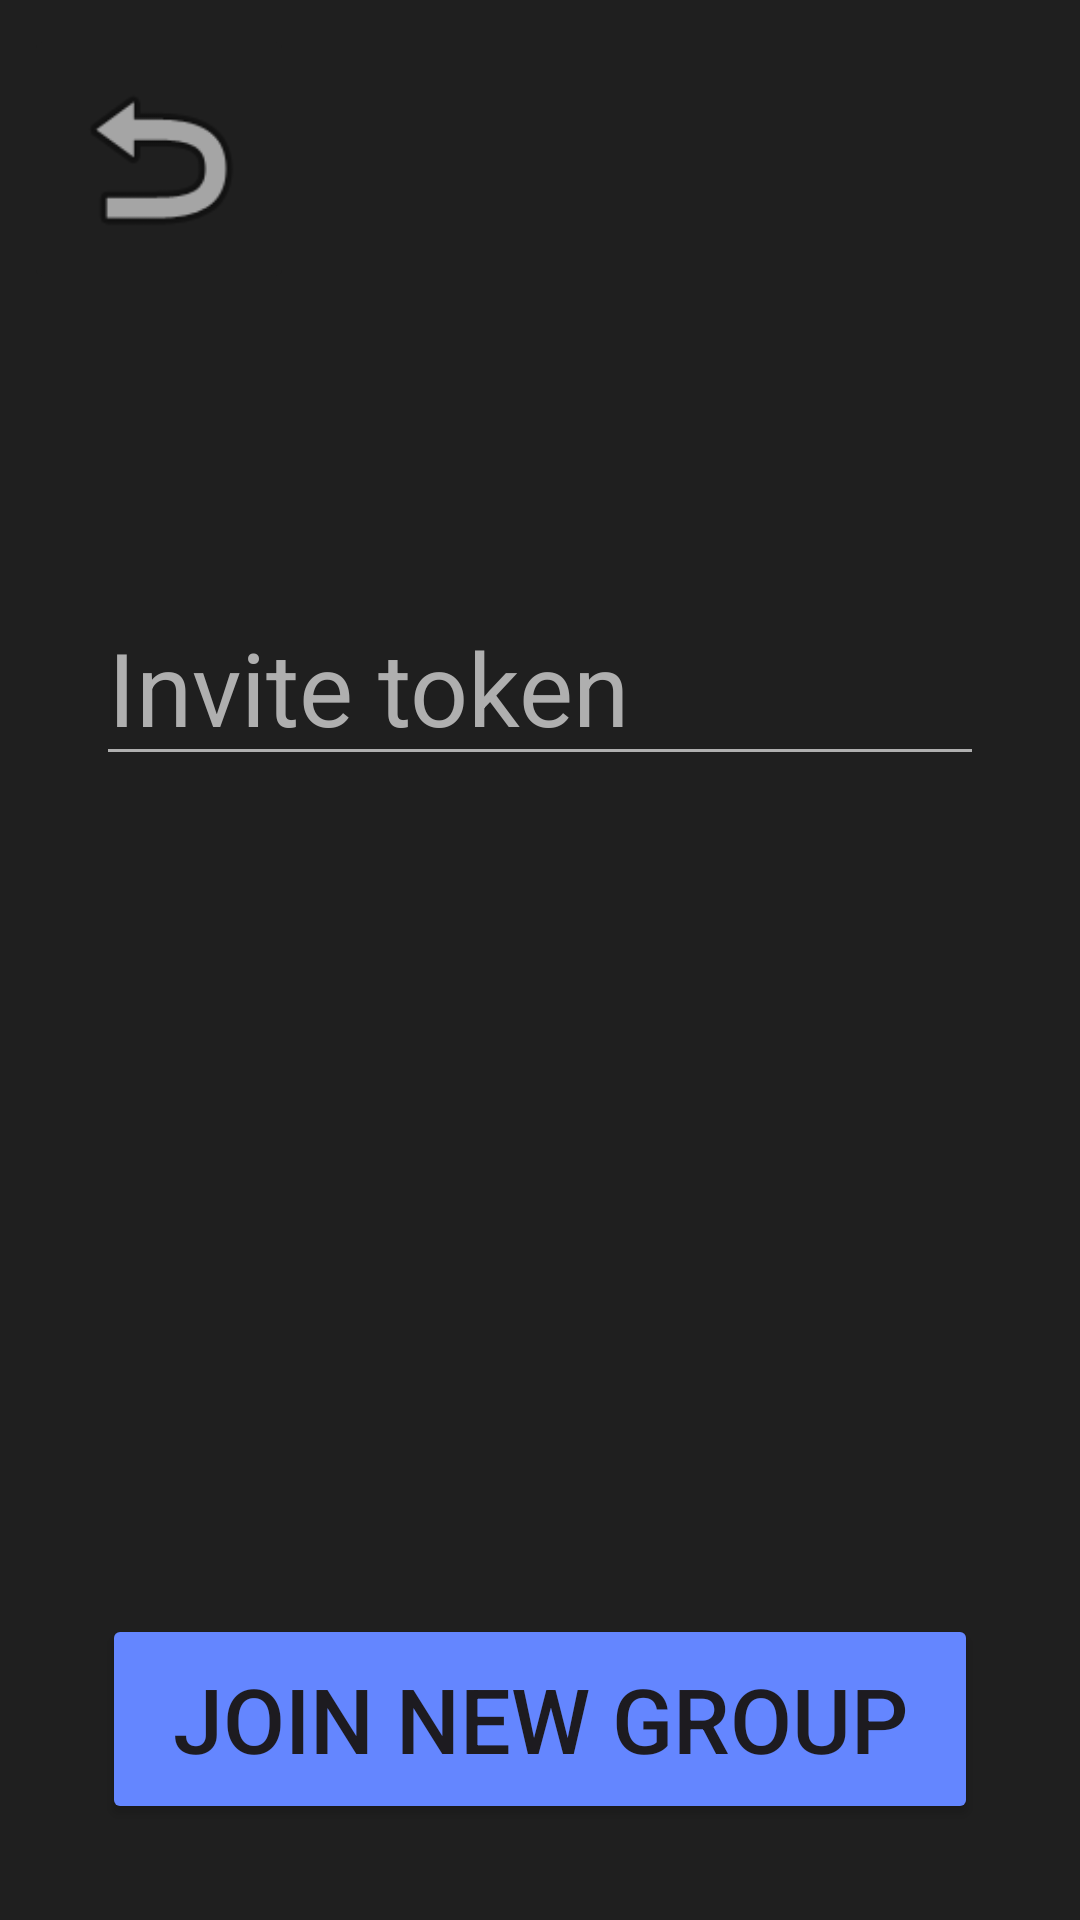

Named icons in this screenshot (1080 x 1920) and their centers, (x,y):
revert: (162,160)
